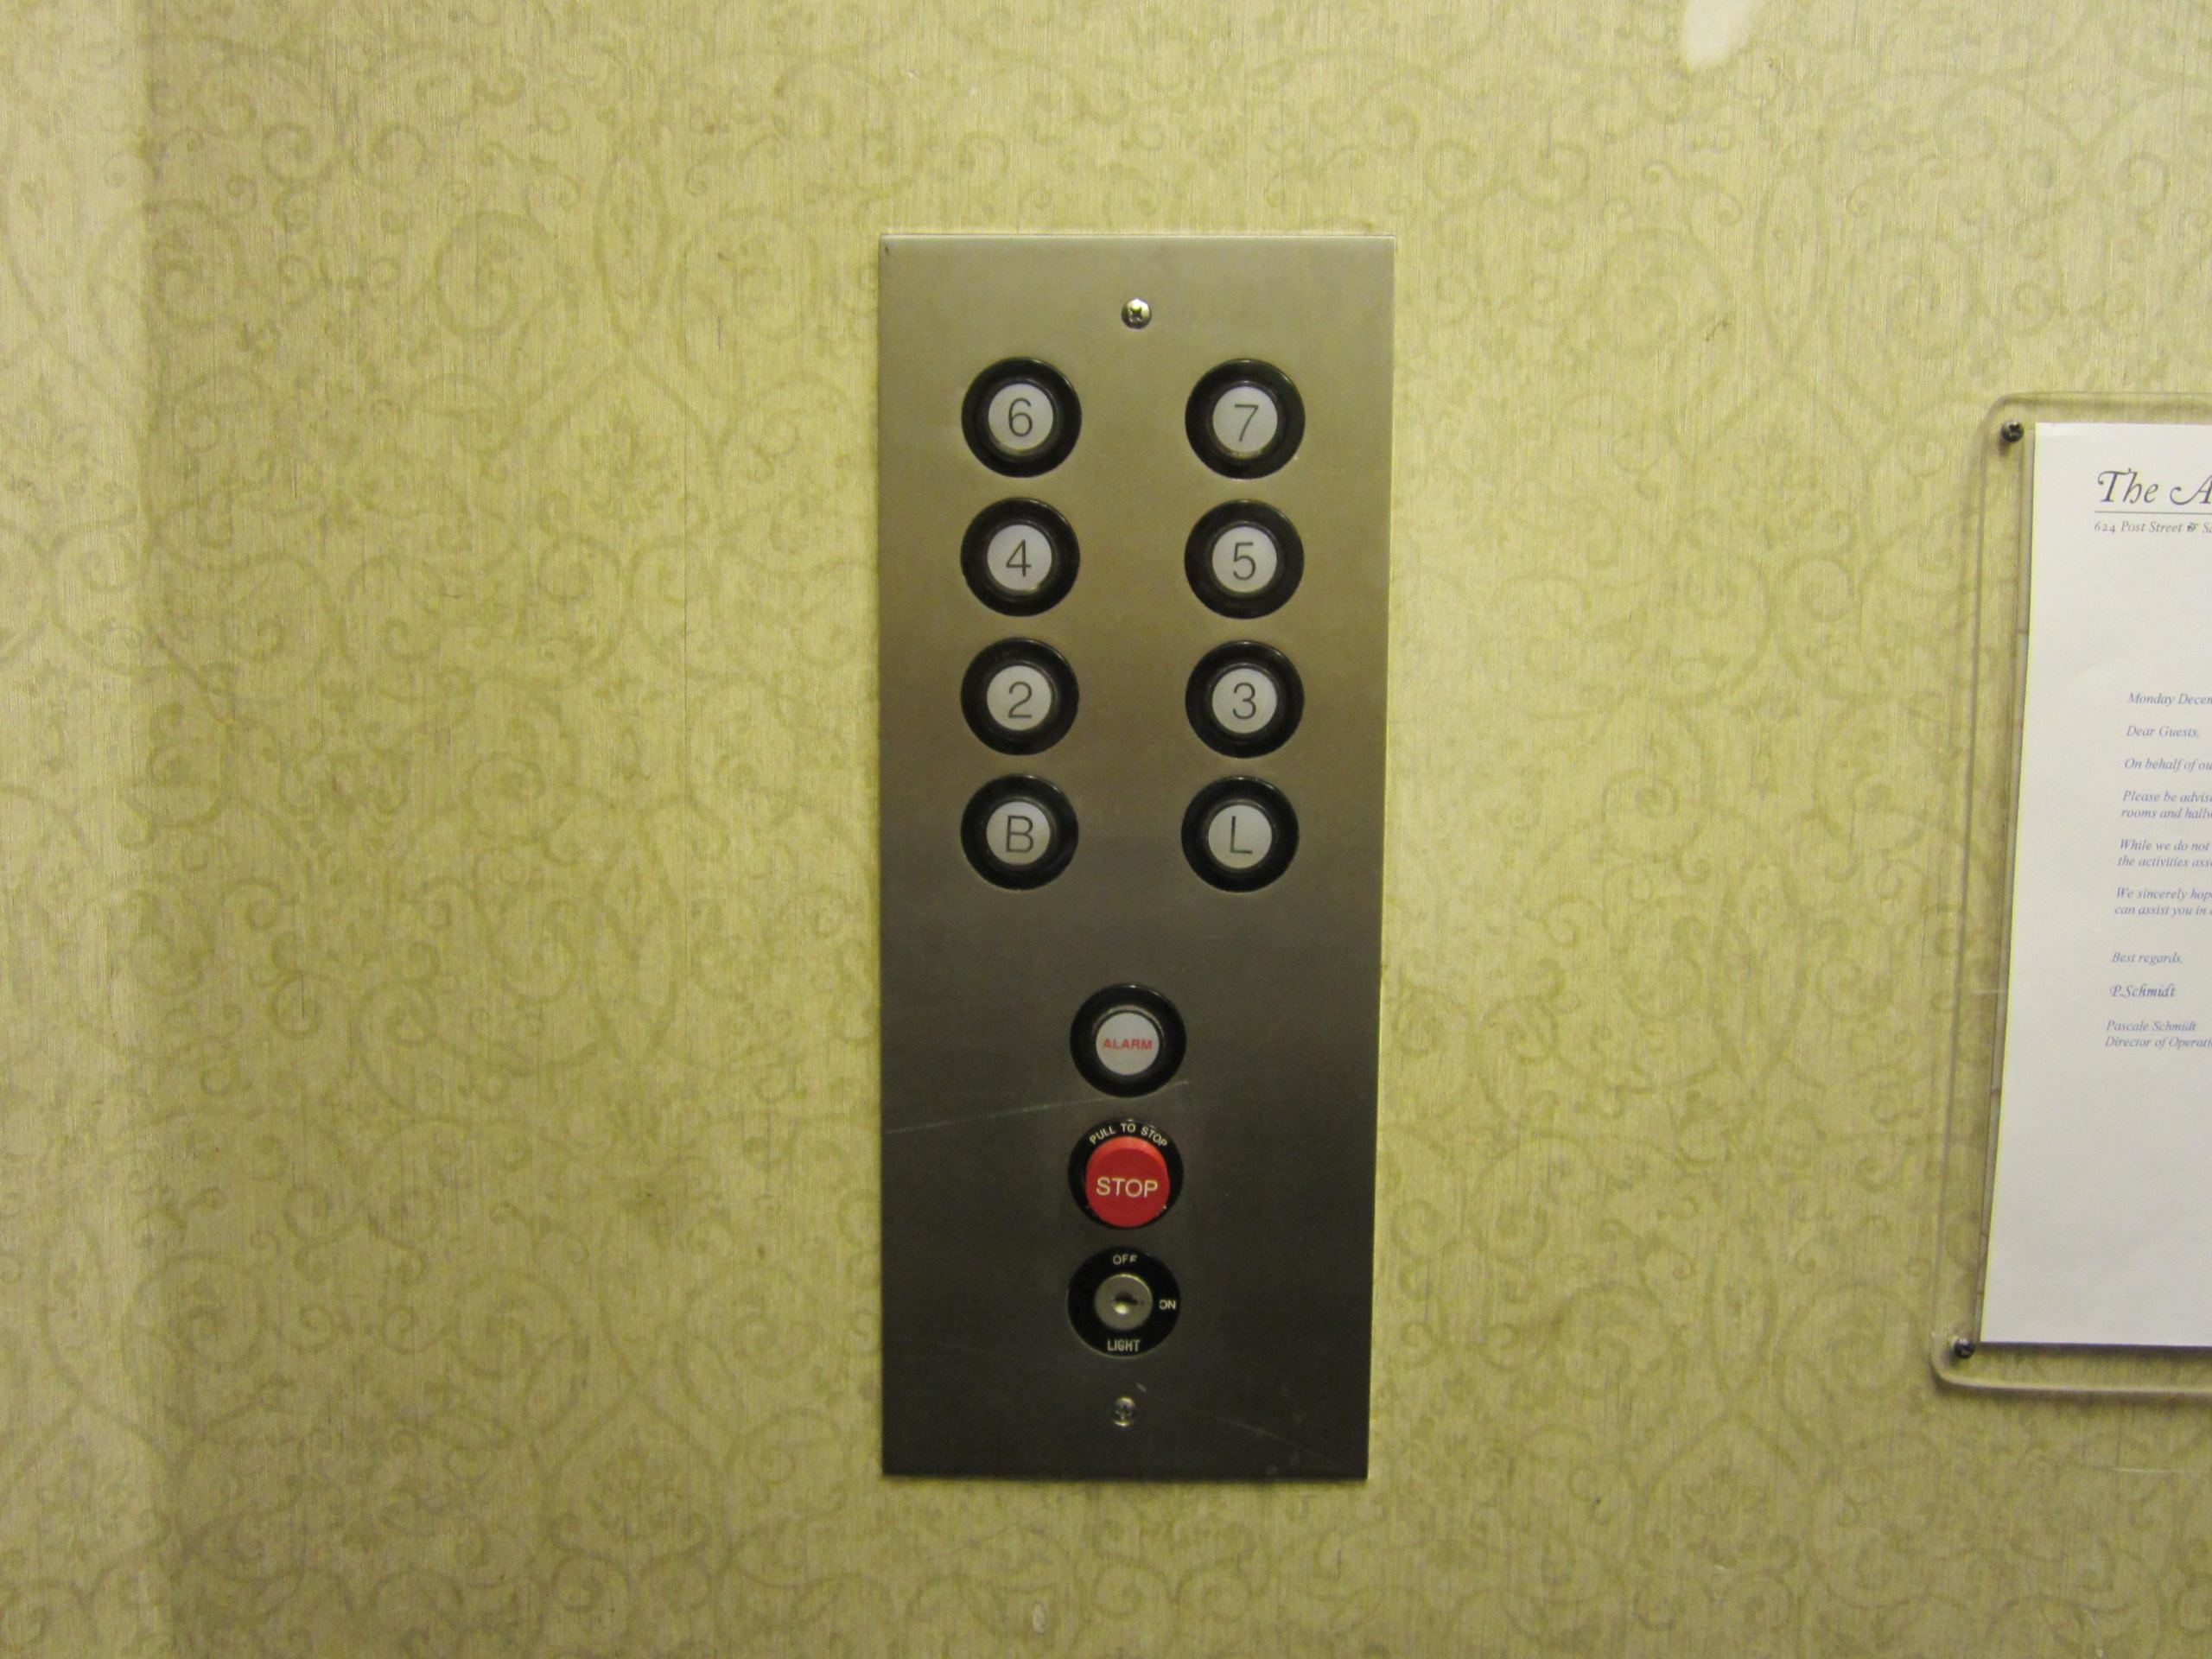2: (949, 626, 1090, 763)
3: (1170, 633, 1313, 765)
4: (949, 488, 1090, 624)
5: (1172, 491, 1315, 624)
6: (953, 347, 1094, 484)
7: (1170, 350, 1317, 486)
B: (944, 763, 1092, 899)
L: (1167, 770, 1310, 903)
keyhole: (1054, 1237, 1190, 1368)
text_alarm: (1059, 972, 1195, 1105)
text_stop: (1059, 1110, 1195, 1243)
